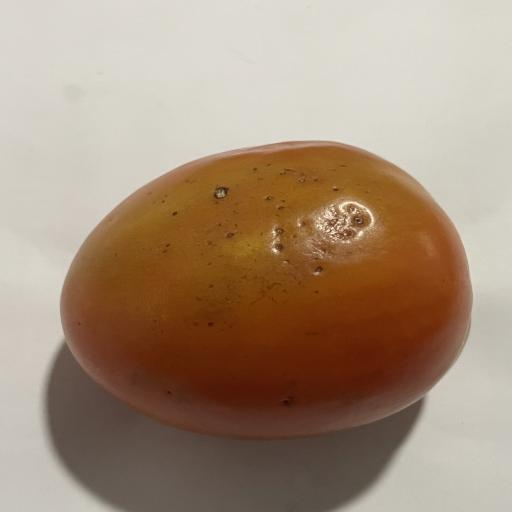overipe: (61, 141, 472, 438)
